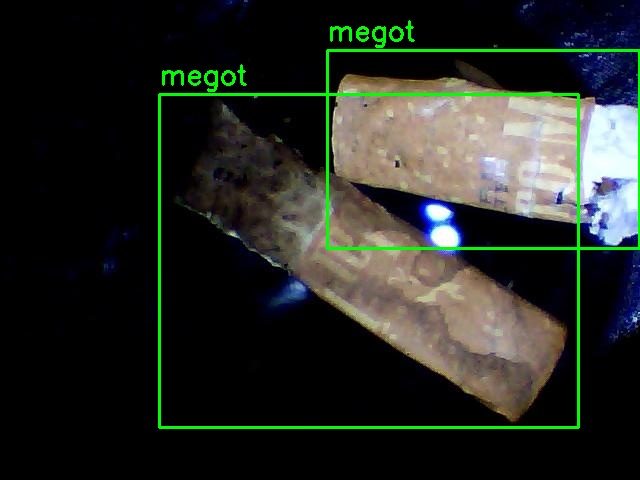megot: (159, 94, 578, 427), (327, 50, 639, 248)
